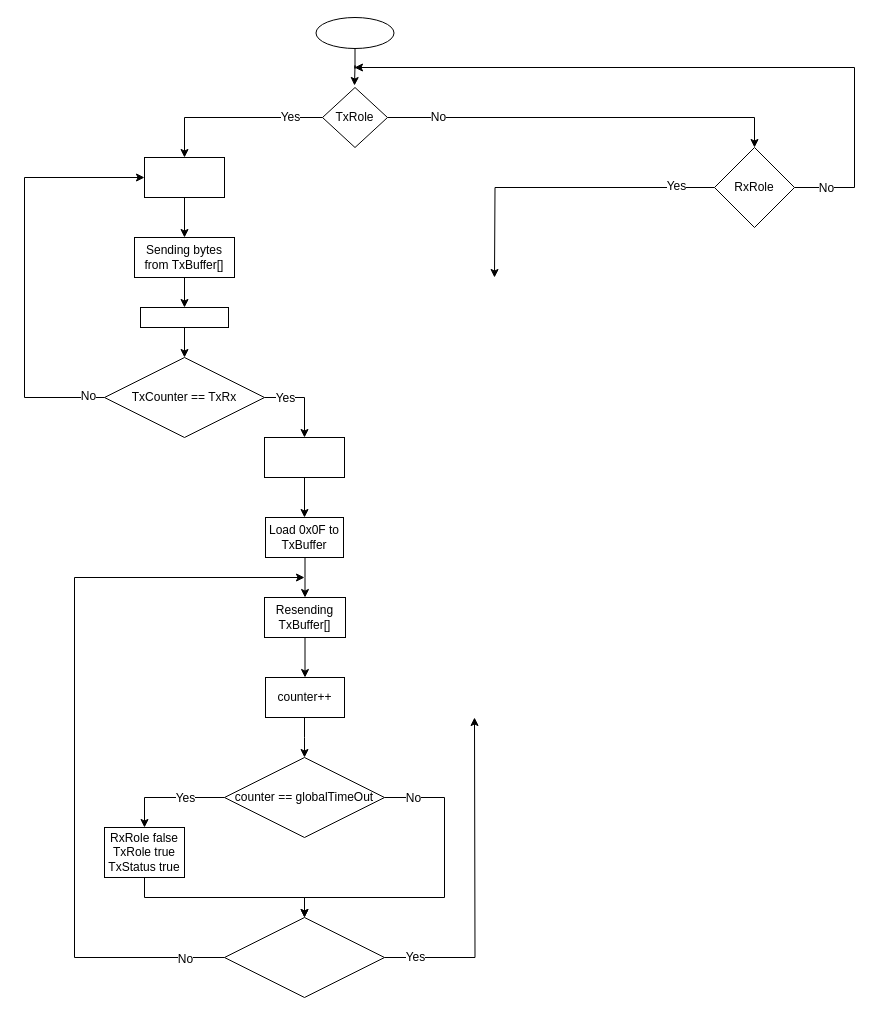
This 880x1015 diagram has some shape labels left out. Here are the shapes that lost their labels. From the top down, the centre of each, then its label:
At point 354,32: "Start".
At point 184,177: "Load data TxBuffer[]".
At point 184,317: "TxCounter ++".
At point 304,457: "RxRole true TxRole false".
At point 304,957: "TxStatus == true".
